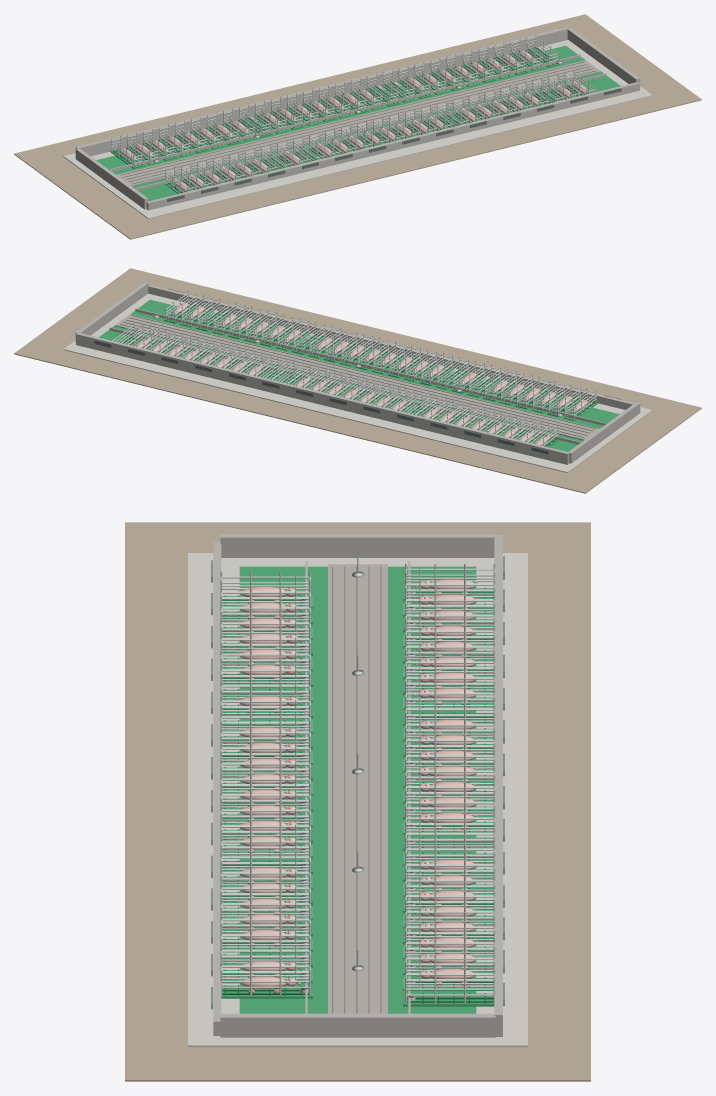
The model's file is gestacion.glb.
3 views of the same model, one above another, from view 1: azimuth 30°, elevation 25°; view 2: azimuth 150°, elevation 25°; view 3: azimuth 270°, elevation 25° (orthographic). The views are drawn at different scales.
Visible parts, largest first — view 1: outside-yard, central-walkway, concrete-base, back-wall-low, front-wall-low, green-plastic-deck, left-row-curb, left-end-wall, right-end-wall, right-row-curb, walkway-groove--1.18, walkway-groove--0.56 (+1 smaller); view 2: outside-yard, central-walkway, back-wall-low, concrete-base, green-plastic-deck, front-wall-low, right-row-curb, left-end-wall, left-row-curb, right-end-wall, walkway-groove-0.06, walkway-groove-1.3 (+3 smaller); view 3: outside-yard, concrete-base, central-walkway, green-plastic-deck, right-end-wall, left-end-wall, back-wall-low, front-wall-low, gestacion-jaula-27-floor, walkway-groove--1.18, walkway-groove--0.56, walkway-groove-0.68 (+3 smaller).
Part boxes in pixels (x1,y1,x2,y2): outside-yard: [14, 14, 701, 239]; central-walkway: [116, 60, 600, 186]; concrete-base: [63, 40, 652, 218]; back-wall-low: [76, 27, 569, 156]; front-wall-low: [146, 82, 639, 210]; green-plastic-deck: [96, 45, 620, 200]; left-row-curb: [109, 54, 580, 171]; left-end-wall: [75, 148, 148, 209]; right-end-wall: [567, 28, 640, 88]; right-row-curb: [135, 73, 606, 190]; walkway-groove--1.18: [120, 61, 583, 175]; walkway-groove--0.56: [123, 64, 587, 177]; outside-yard: [14, 268, 701, 493]; central-walkway: [115, 314, 599, 440]; back-wall-low: [76, 332, 569, 464]; concrete-base: [63, 293, 652, 472]; green-plastic-deck: [99, 299, 619, 451]; front-wall-low: [148, 284, 634, 409]; right-row-curb: [135, 308, 606, 425]; left-end-wall: [568, 402, 640, 463]; left-row-curb: [109, 327, 580, 444]; right-end-wall: [75, 282, 148, 342]; walkway-groove-0.06: [126, 319, 589, 433]; walkway-groove-1.3: [132, 315, 596, 428]; outside-yard: [125, 522, 590, 1081]; concrete-base: [188, 553, 527, 1047]; central-walkway: [328, 564, 387, 1013]; green-plastic-deck: [239, 566, 476, 1013]; right-end-wall: [220, 1013, 495, 1037]; left-end-wall: [220, 534, 495, 557]; back-wall-low: [494, 535, 502, 1036]; front-wall-low: [213, 541, 221, 1035]; gestacion-jaula-27-floor: [403, 993, 494, 1006]; walkway-groove--1.18: [380, 566, 381, 1013]; walkway-groove--0.56: [368, 566, 369, 1013]; walkway-groove-0.68: [344, 566, 345, 1013].
Bounding box in the file's own units: 68 × 2.78 × 24.
